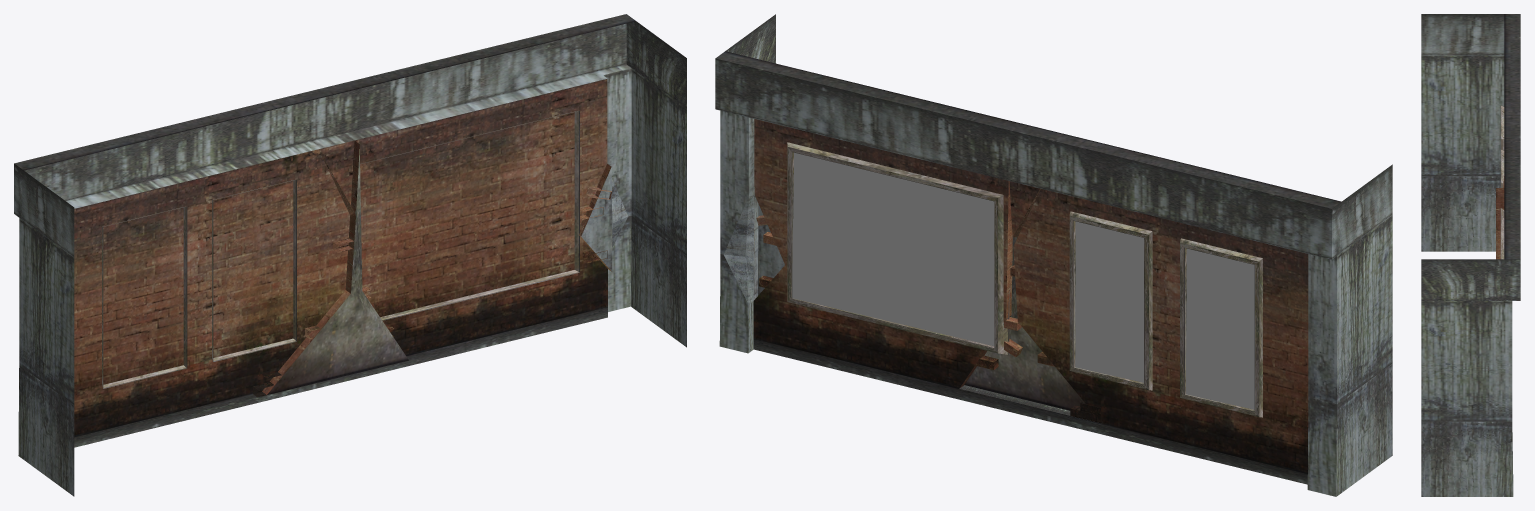
File: Store_front_4_C.fbx
3 renders of one model, left to right at view 1: azimuth 30°, elevation 25°; view 2: azimuth 150°, elevation 25°; view 3: azimuth 270°, elevation 25°, orthographic. The views are drawn at different scales.
Visible parts, largest first — view 1: Store_front_4_C; view 2: Store_front_4_C; view 3: Store_front_4_C.
Part boxes in pixels (<box>): Store_front_4_C: <box>14,14,686,496</box>; Store_front_4_C: <box>715,14,1392,496</box>; Store_front_4_C: <box>1421,14,1520,496</box>.
Size of the model in its own units: 700 by 316 by 119.
